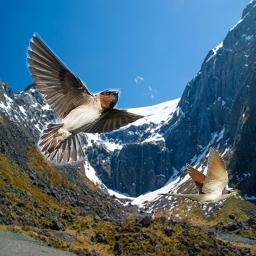Cuckoo: (157, 147, 238, 203)
Swallow: (25, 32, 156, 166)
